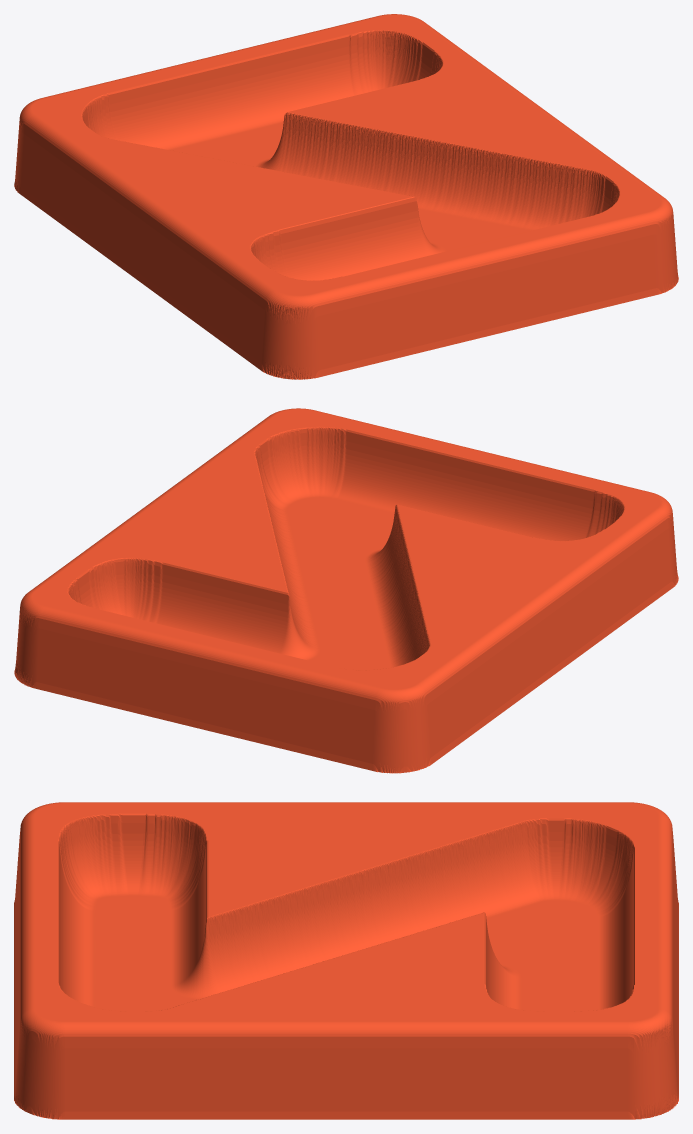
Rendered from mold.glb.
3 renders of one model, top to bottom at view 1: azimuth 30°, elevation 25°; view 2: azimuth 150°, elevation 25°; view 3: azimuth 270°, elevation 25°, orthographic. The views are drawn at different scales.
Visible parts, largest first — view 1: geometry_0; view 2: geometry_0; view 3: geometry_0.
Boxes of the visible parts, x1,y1,x2,y2 form: geometry_0: [14, 14, 678, 379]; geometry_0: [14, 408, 678, 773]; geometry_0: [14, 802, 678, 1119].
Bounding box in the file's own units: 0.0986 × 0.0175 × 0.1178.
